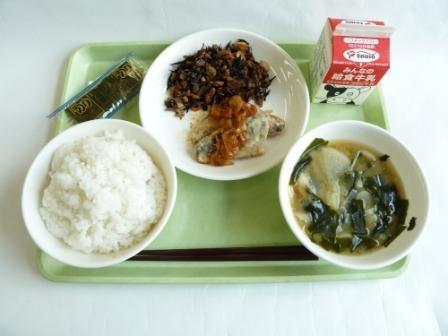Fish: (185, 104, 290, 165)
Milk: (306, 15, 398, 107)
Rice: (19, 130, 173, 257)
Soups: (285, 130, 420, 263)
salad with sauce: (159, 40, 274, 105)
